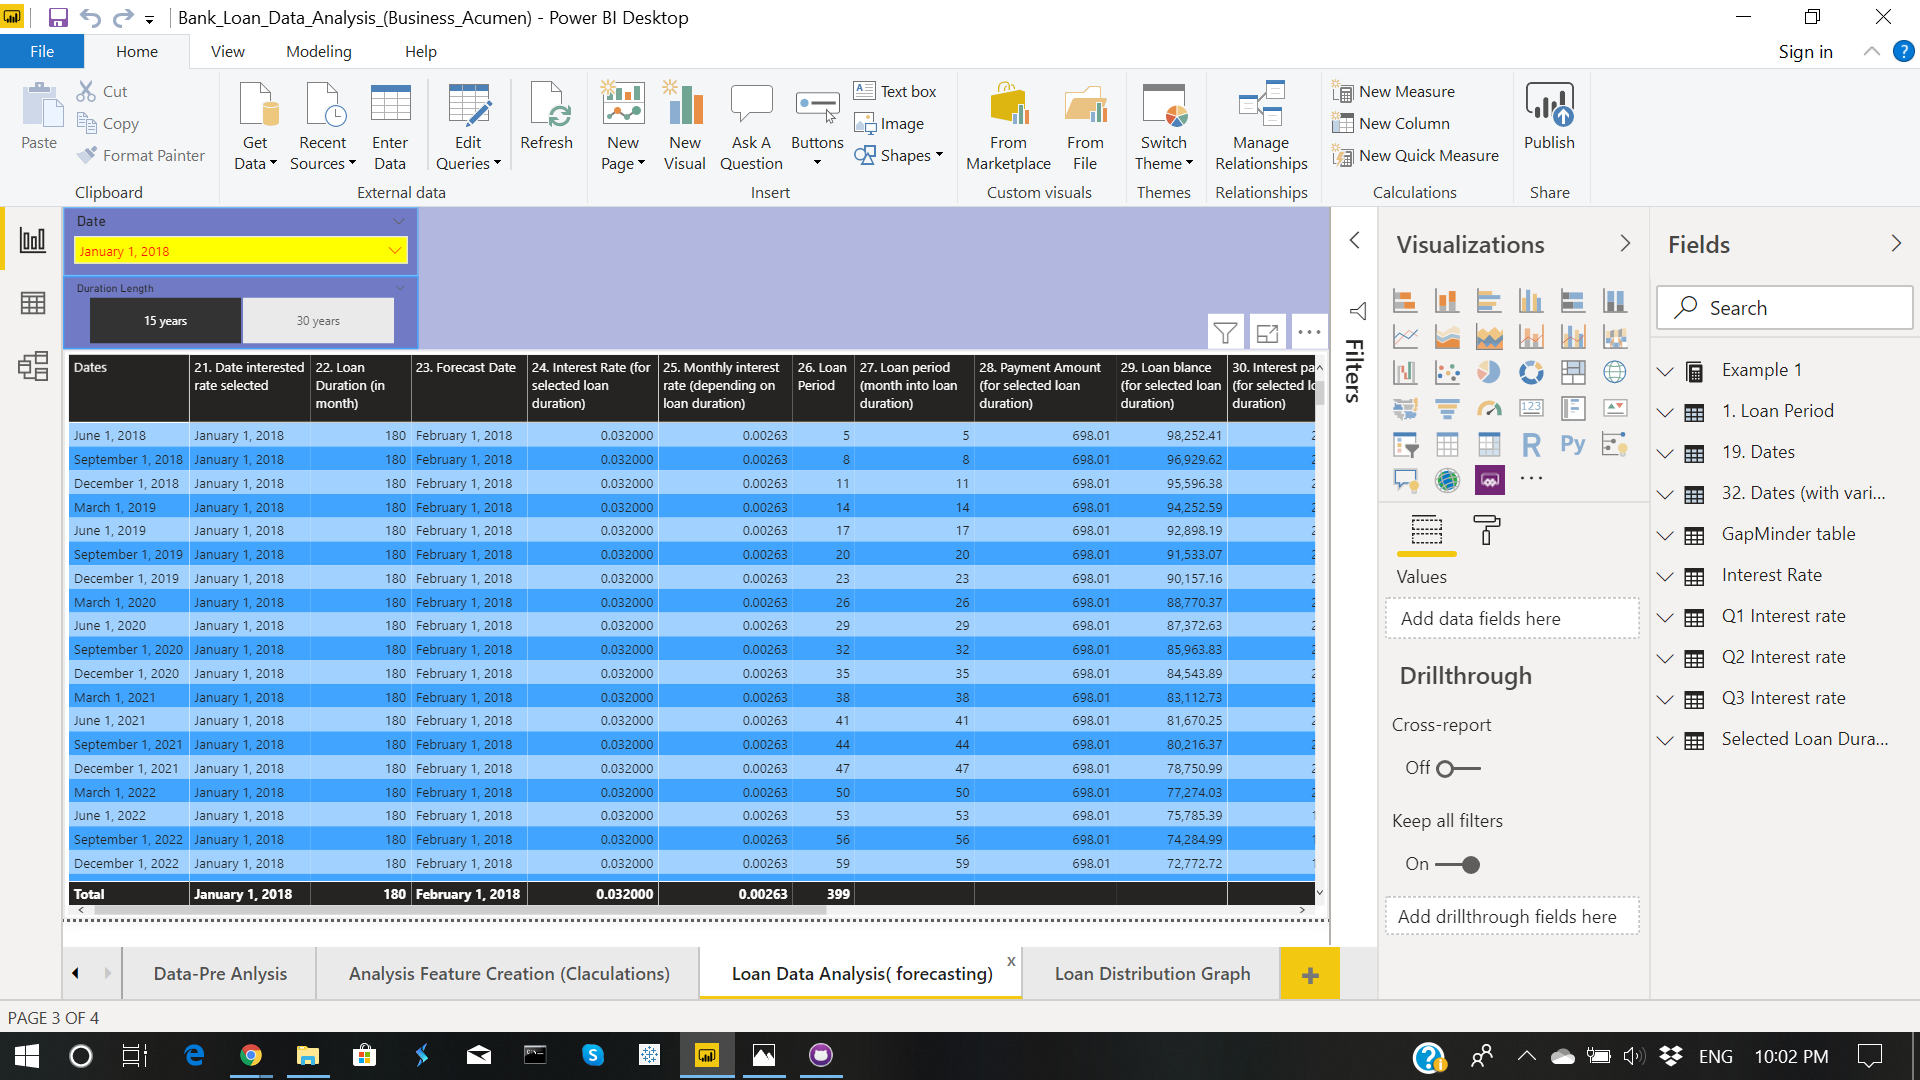

Layout of this report page (visuals, bound fields, positions):
{"tool":"powerbi","page":{"name":"Loan Data Analysis( forecasting)","canvas":[1280,720],"ordinal":2},"visuals":[{"type":"tableEx","fields":{"Values":["32. Dates (with variable).Dates","Example 1.21. Date interested rate selected","Example 1.22. Loan Duration (in month)","Example 1.23. Forecast Date","Example 1.24. Interest Rate (for selected loan duration)","Example 1.25. Monthly interest rate (depending on loan duration)","Example 1.26. Loan Period","Example 1.27. Loan period (month into loan duration)","Example 1.28. Payment Amount (for selected loan duration)","Example 1.29. Loan blance (for selected loan duration)","Example 1.30. Interest paid (for selected loan duration)","Example 1.31. Principal paid (for selected loan duration)"]},"box":[0,144.1,1280,576.3],"z":0},{"type":"slicer","fields":{"Values":["Interest Rate.Date"]},"box":[0,0,359.4,69.8],"z":1000},{"type":"slicer","fields":{"Values":["Selected Loan Duration.Duration Length"]},"box":[0,69.8,359.4,74.3],"z":2000}]}

Visuals, with their boxes on the page's 1280x720 design canvas (x1, y1, x2, y2). These are canvas units, not pixel positions in the 1920x1080 screenshot, which may show the page scaled, cropped or inside an application window:
tableEx - 32. Dates (with variable).Dates x Example 1.21. Date interested rate selected: 0, 144, 1280, 720
slicer - Interest Rate.Date: 0, 0, 359, 70
slicer - Selected Loan Duration.Duration Length: 0, 70, 359, 144
